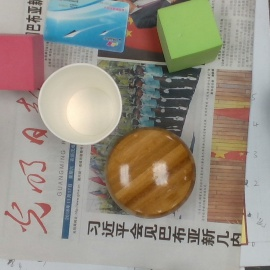card: (43, 1, 131, 53)
chess: (106, 127, 196, 220)
cup: (37, 62, 122, 148)
